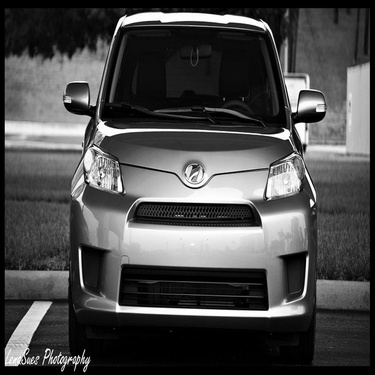car: (60, 12, 339, 358)
